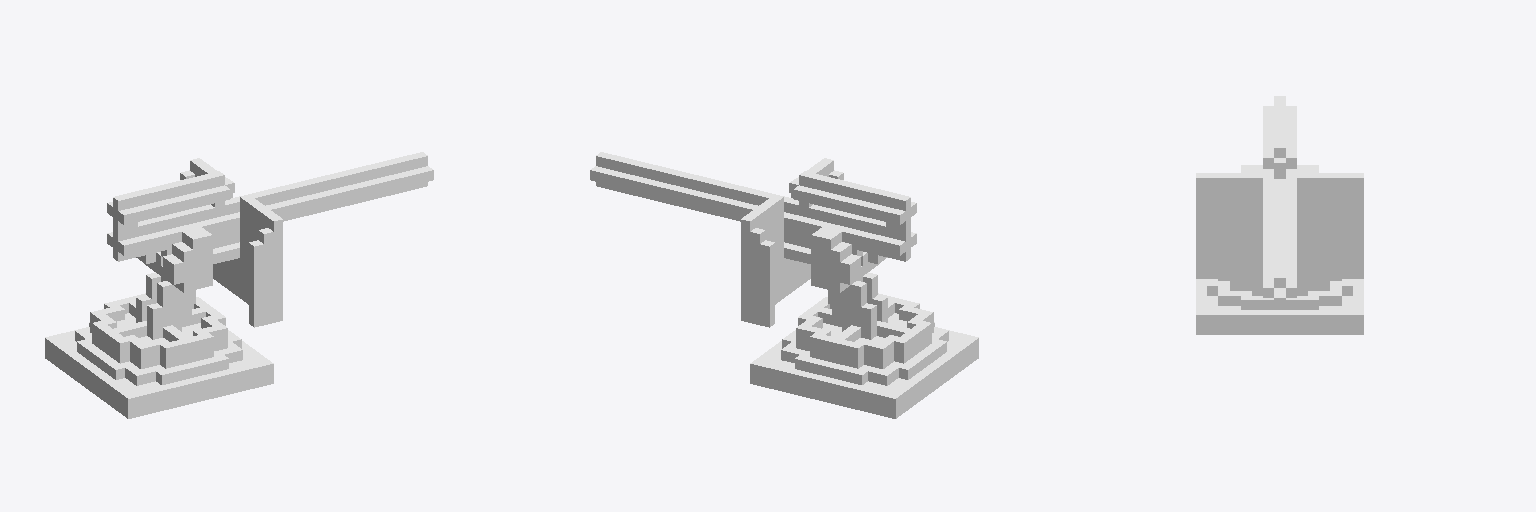
Rendered from flak36.obj.
3 renders of one model, left to right at view 1: azimuth 30°, elevation 25°; view 2: azimuth 150°, elevation 25°; view 3: azimuth 270°, elevation 25°, orthographic.
Parts seen in each view (by area): view 1: flak36; view 2: flak36; view 3: flak36.
Boxes of the visible parts, x1,y1,x2,y2 form: flak36: [45, 152, 433, 418]; flak36: [590, 152, 978, 418]; flak36: [1196, 96, 1363, 334].
Size of the model in its own units: 35 by 18 by 15.